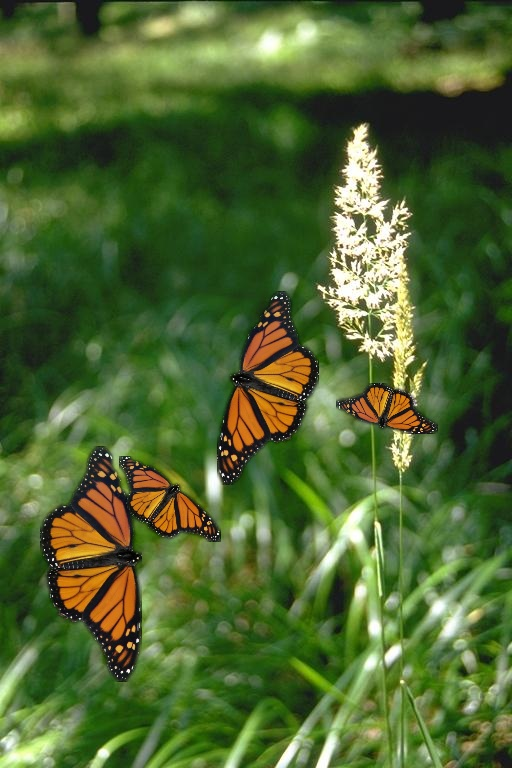danaus_plexippus: (40, 446, 142, 682), (217, 291, 319, 485), (119, 456, 221, 542), (336, 383, 438, 434)
